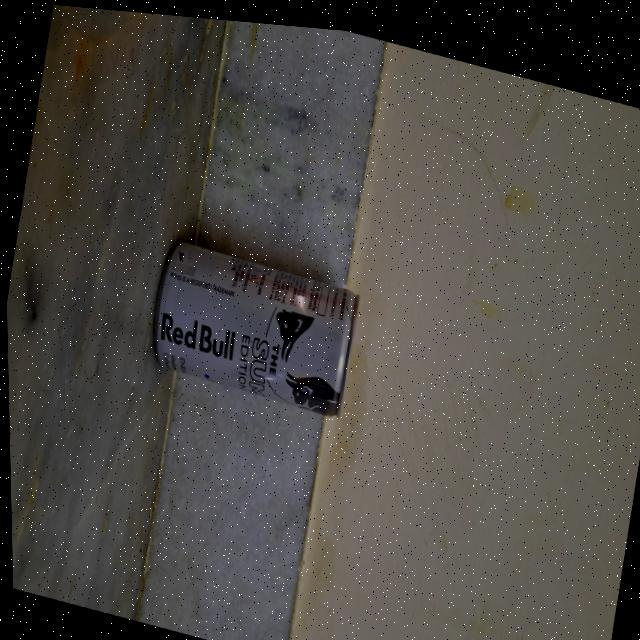Redbull Summer Edition: (139, 215, 372, 421)
